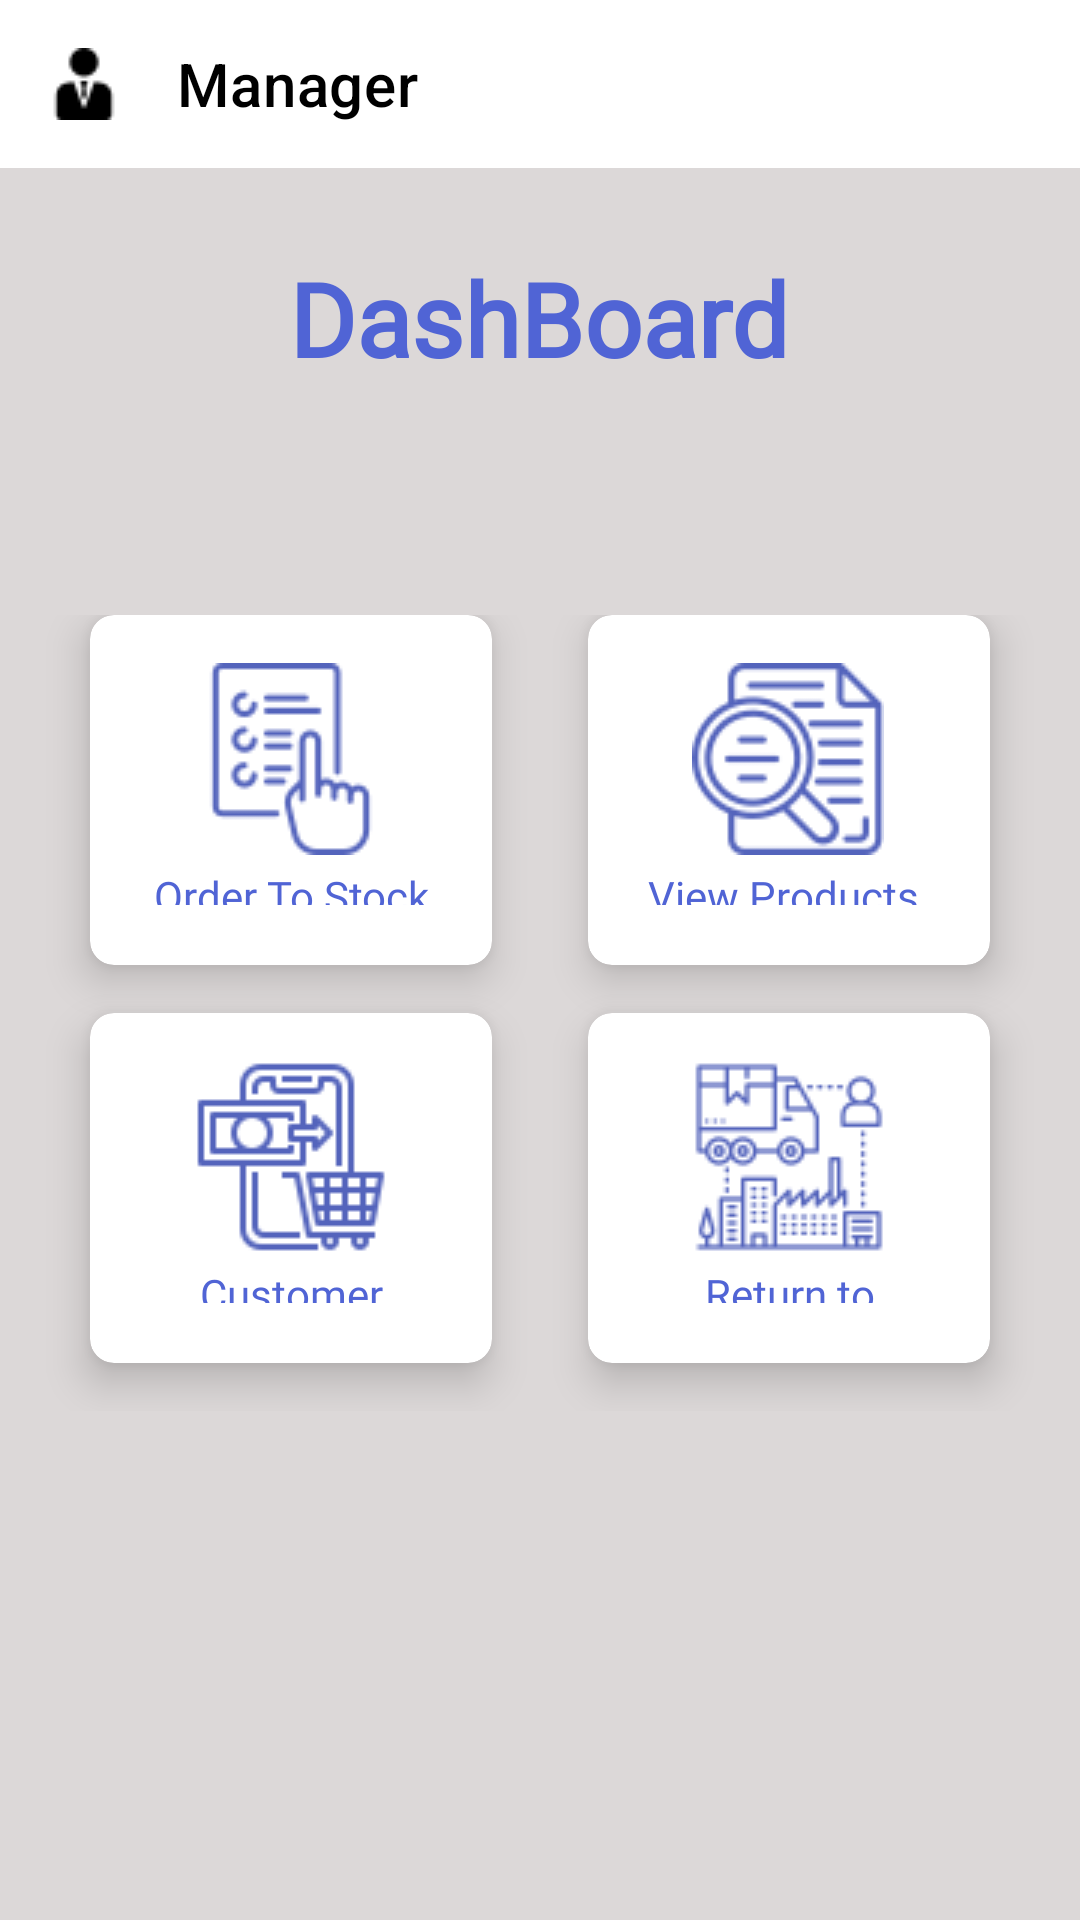

Icon bounding boxes for this 1080 x 1920 phone screenshot, format bbox=(x1, y1, x2, y2):
choices: bbox=(212, 663, 370, 855)
online order: bbox=(197, 1063, 385, 1251)
supplier: bbox=(695, 1063, 883, 1251)
